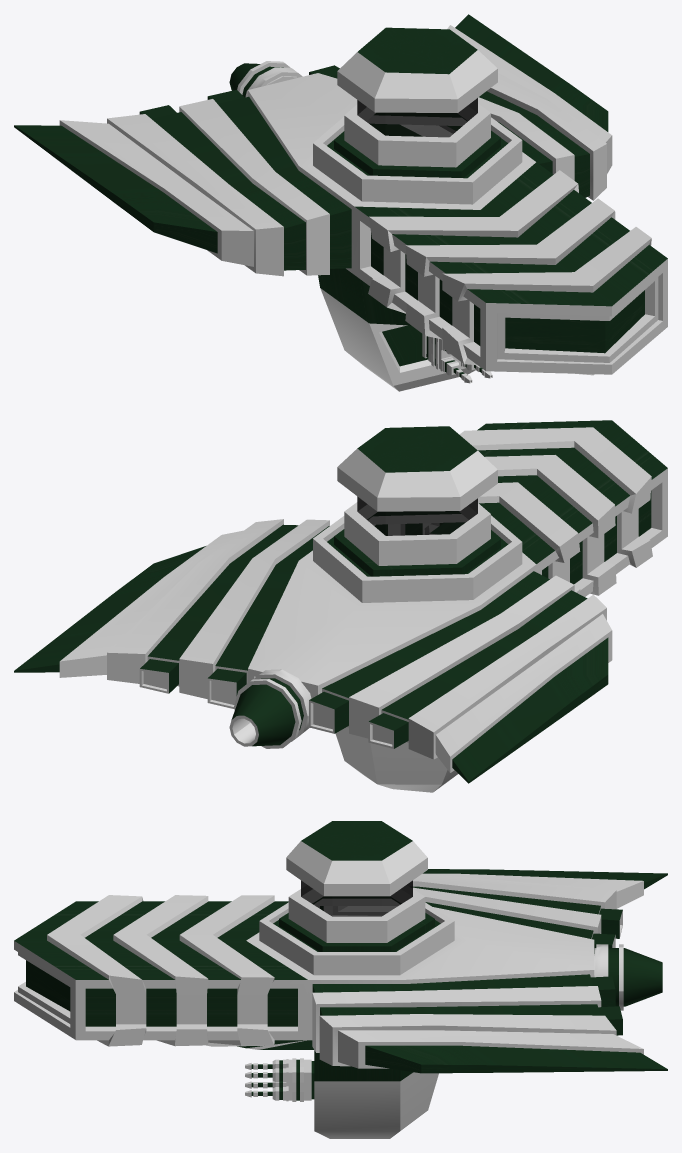
File: DCC.fbx
The picture shows the model from 3 angles, top to bottom: view 1: azimuth 30°, elevation 25°; view 2: azimuth 150°, elevation 25°; view 3: azimuth 270°, elevation 25°; orthographic projection. The views are drawn at different scales.
Parts seen in each view (by area): view 1: DCC; view 2: DCC; view 3: DCC.
Boxes of the visible parts, bbox=[...] form: DCC: bbox=[14, 14, 667, 391]; DCC: bbox=[14, 420, 667, 792]; DCC: bbox=[14, 821, 667, 1138].
Size of the model in its own units: 6.01 by 4.06 by 8.49.
